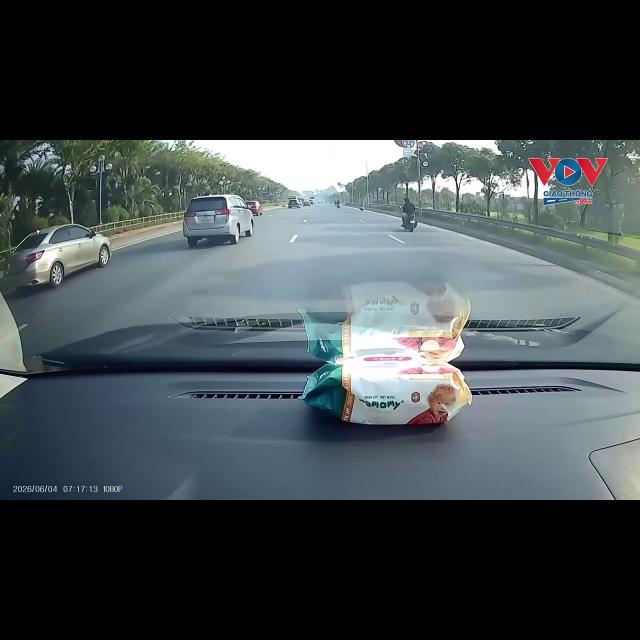car: (5, 224, 110, 288), (183, 195, 253, 247), (247, 201, 262, 215), (288, 199, 299, 208), (298, 199, 303, 206), (303, 201, 310, 206)
motorcycle: (403, 214, 416, 231), (360, 205, 364, 211), (336, 204, 340, 208)
